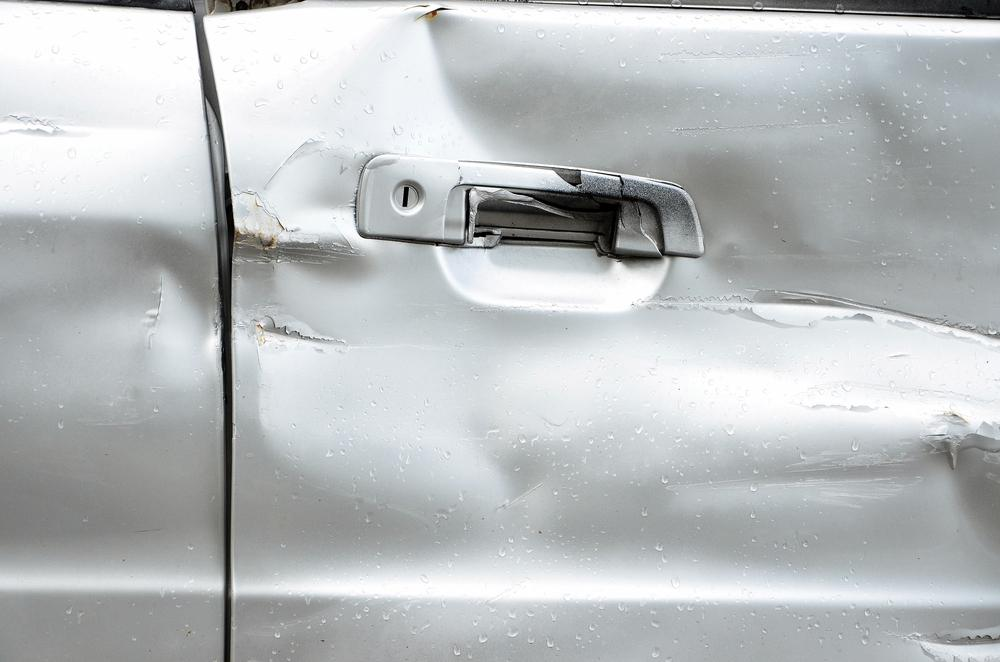dent: (260, 83, 991, 539), (13, 218, 213, 404), (365, 11, 534, 163)
